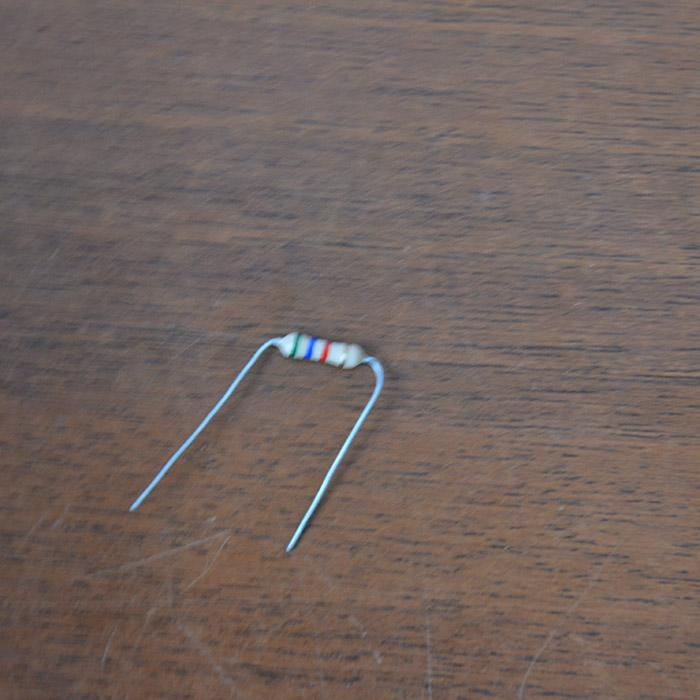resistor: (272, 331, 368, 370)
